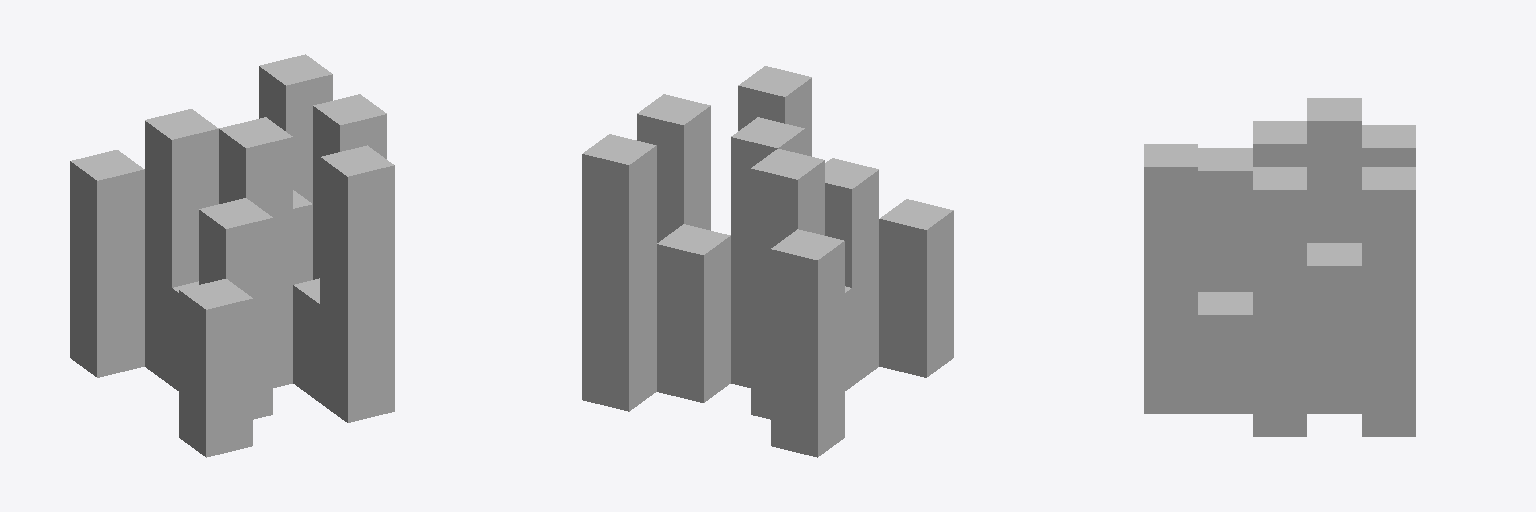
File: Grass1.obj
The picture shows the model from 3 angles: view 1: azimuth 30°, elevation 25°; view 2: azimuth 150°, elevation 25°; view 3: azimuth 270°, elevation 25°; orthographic projection.
Parts seen in each view (by area): view 1: object 1; view 2: object 1; view 3: object 1.
Part boxes in pixels (left/top/right/bottom): object 1: left=70, top=54, right=394, bottom=457; object 1: left=582, top=66, right=953, bottom=457; object 1: left=1144, top=98, right=1415, bottom=436.
Size of the model in its own units: 0.5 by 0.5 by 0.5.